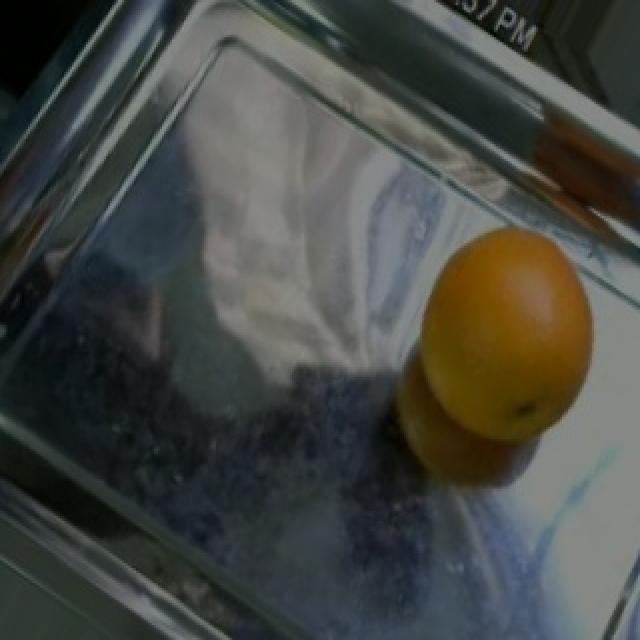Fruit: (388, 211, 622, 466)
